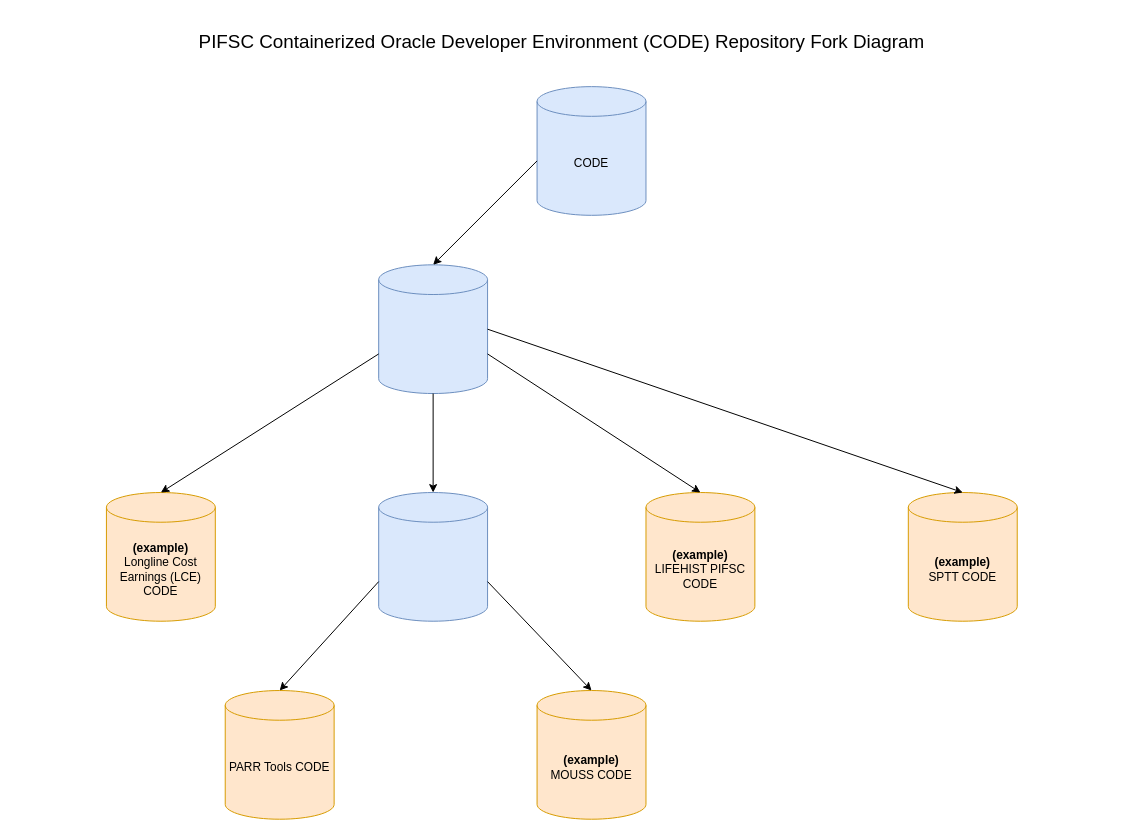
Image size: 1123x837. Some labels were removed from this diagram. Each missing label, with the centre of its shape:
"Centralized Authorization System (CAS) CODE" belongs at point 433,556.
"DSC CODE" belongs at point 433,329.
